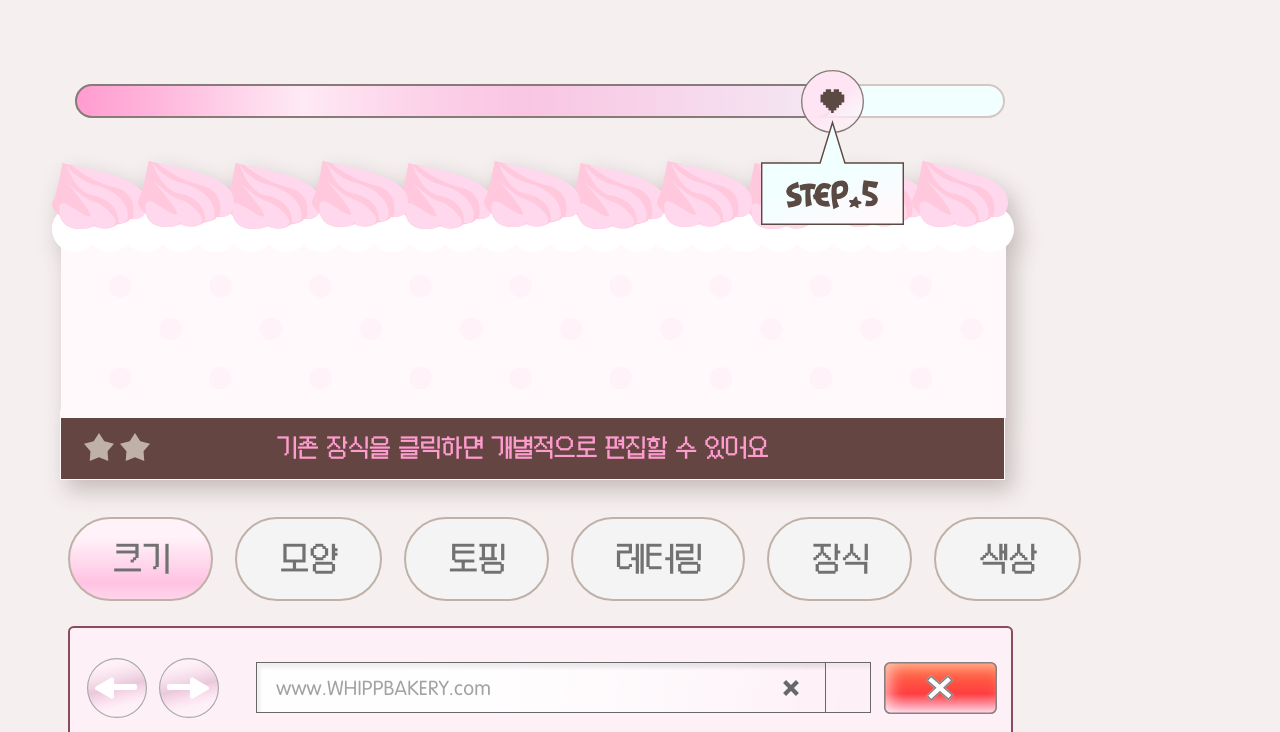
EditorScreen › 예시에 겉면 크림이 있으면 토핑 탭에 COATING 분류가 나오지 않는다
The width and height of the screenshot is (1280, 732).
Click the tab "토핑".
click(476, 558)  # box [404,514,549,602]
(page scrolled)
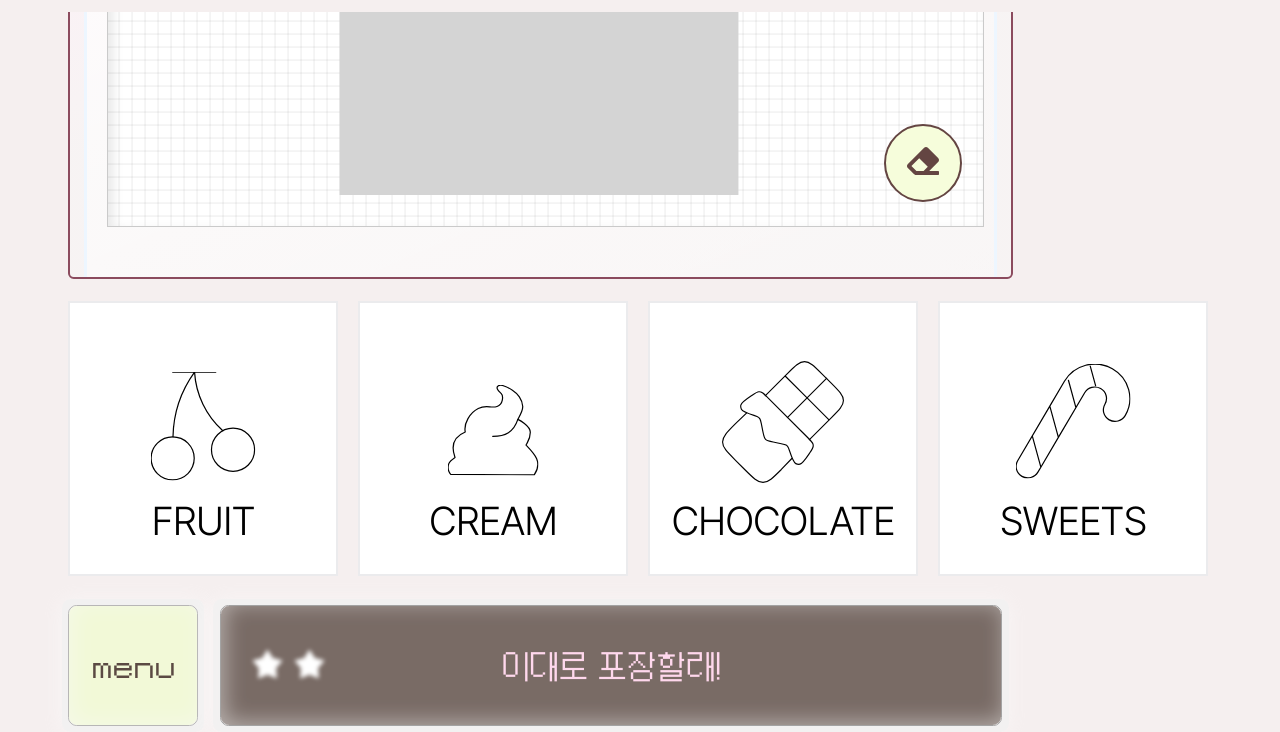
Expected: the button "CREAM" is shown, [358,301,628,576]
